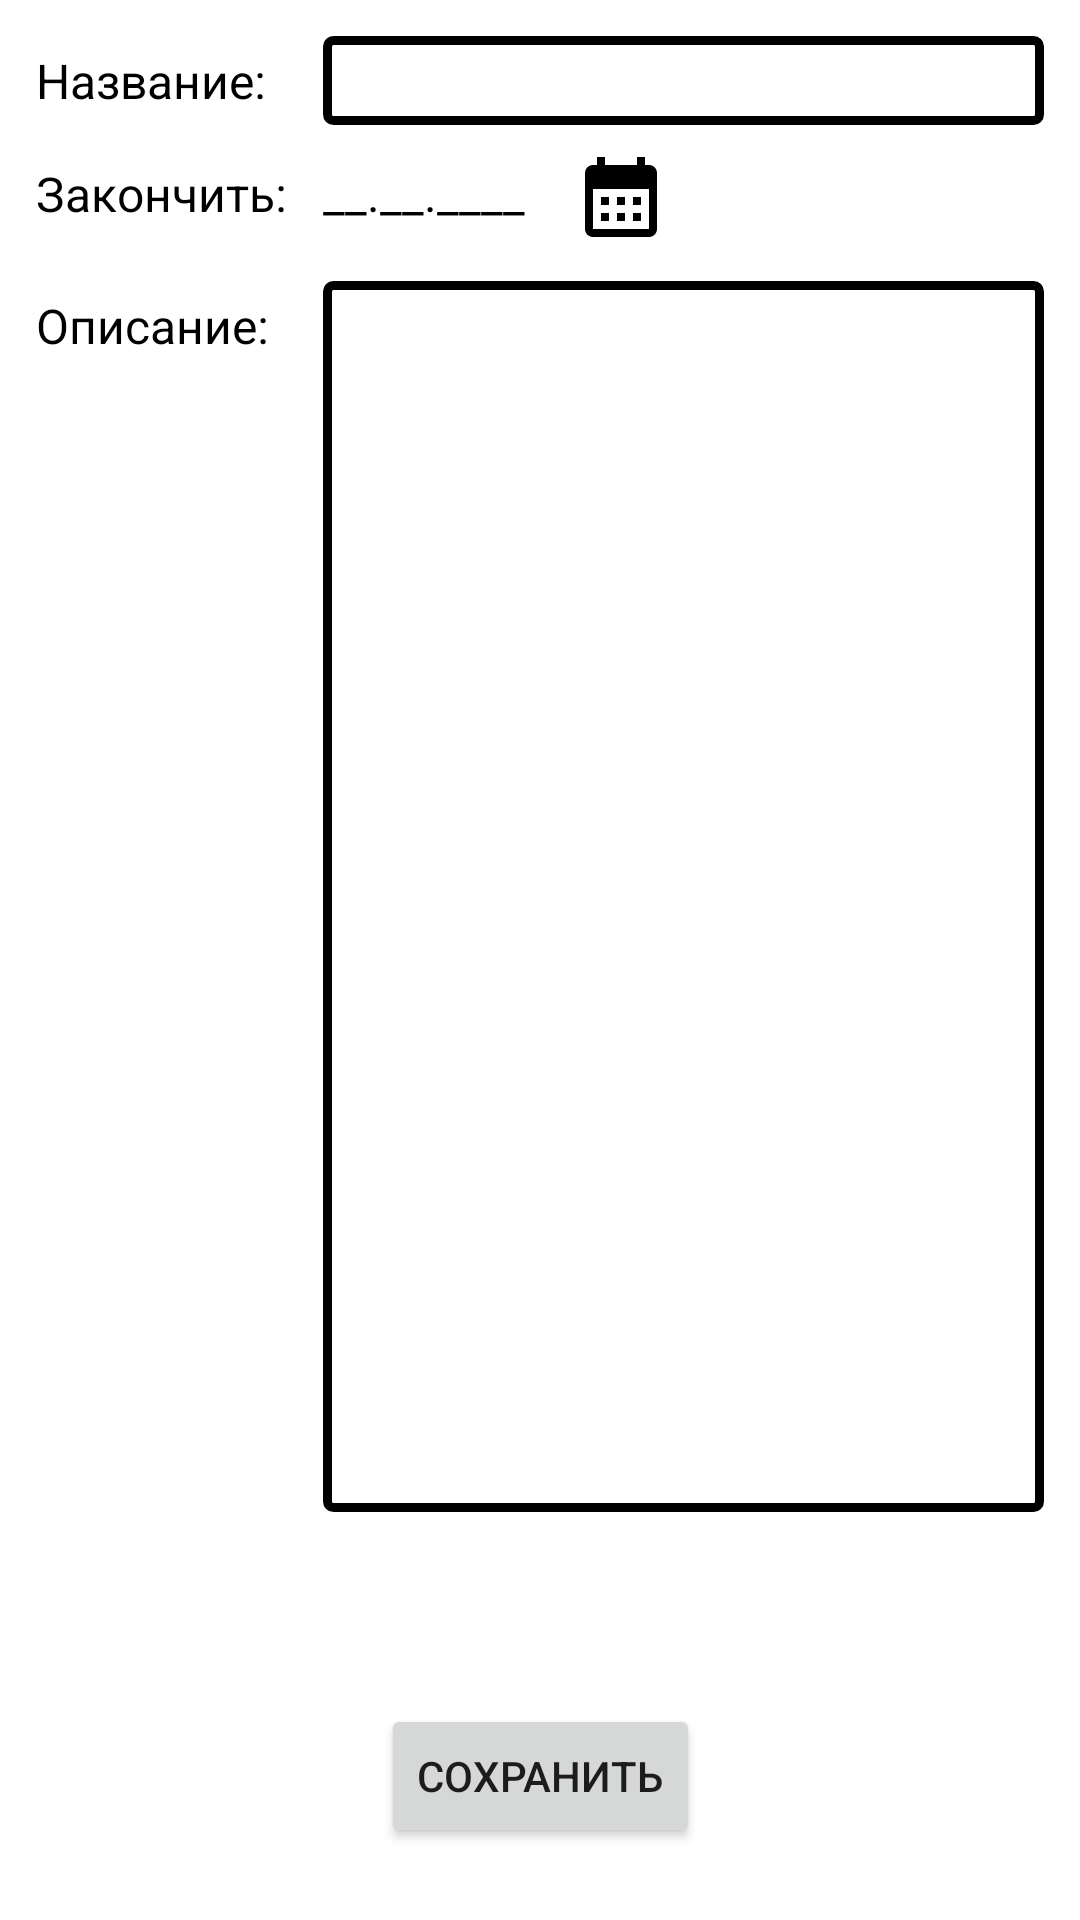

Named icons in this screenshot (1080 x 1920) and their centers, (x=x, y=y):
calendar: (x=621, y=197)
